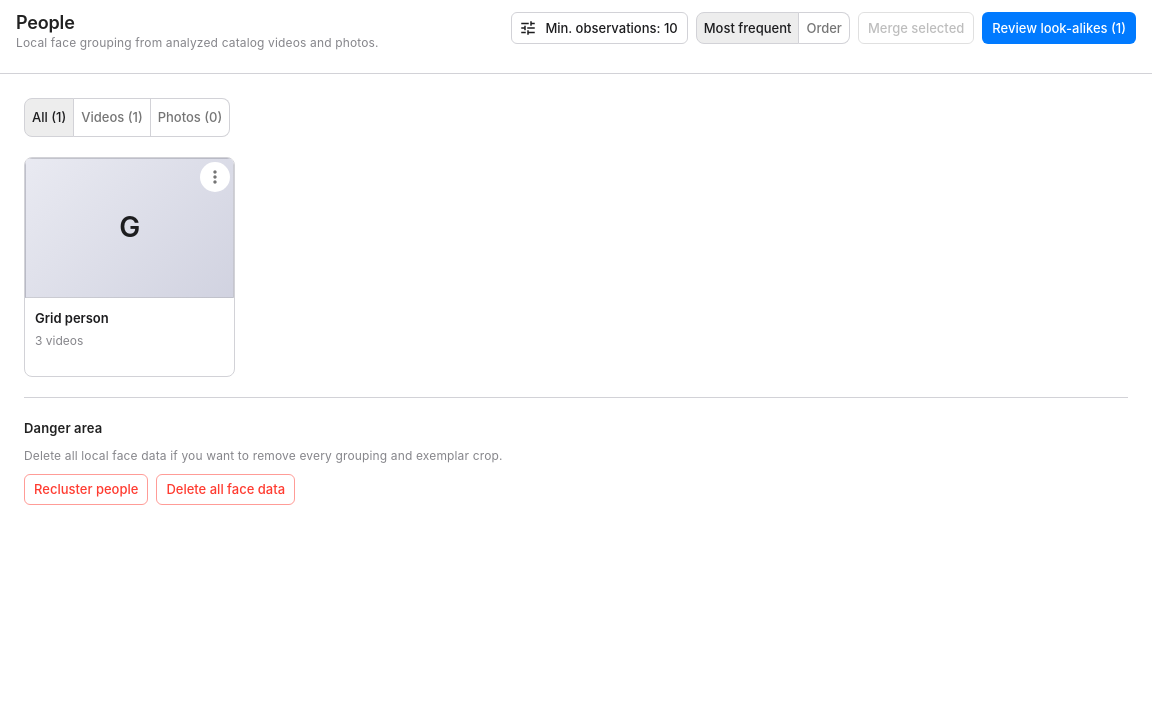
Test: Osoby pair review focus and hints › describes each answer by its key hint and announces the position
Click the button with test id "people-pair-review-open" at (1059, 28), box 982,12 -> 1136,44
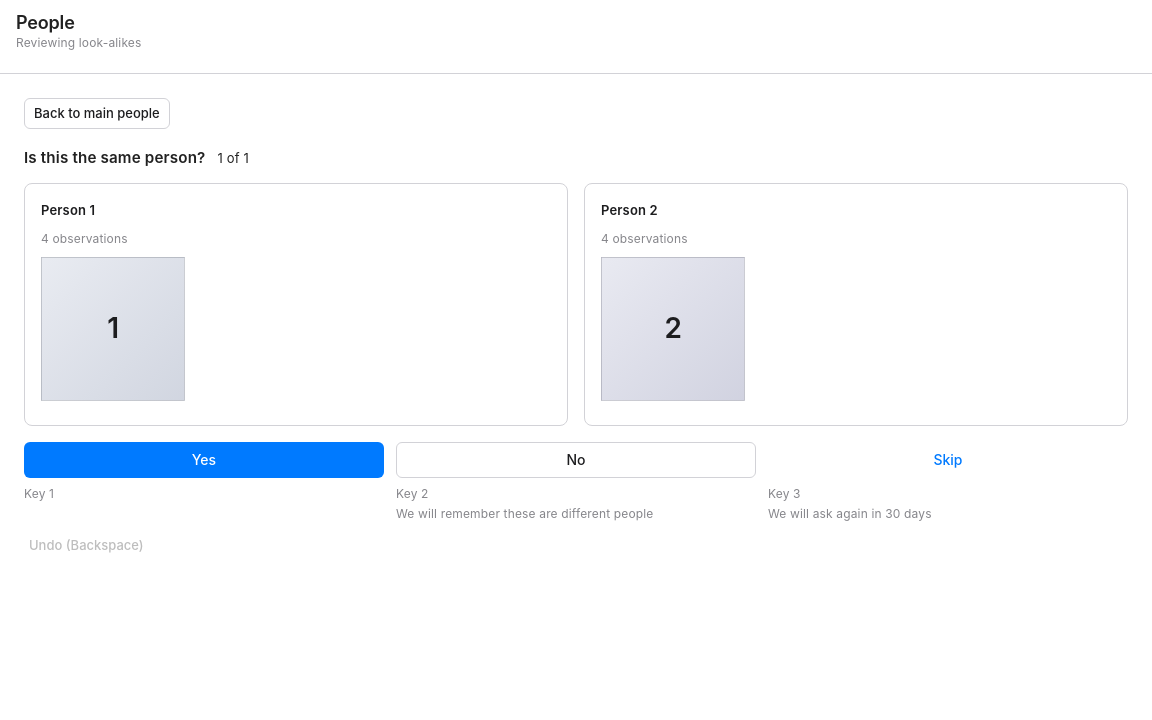
Result: the element with test id "people-pair-review" is shown at 24,149 -> 1128,561
Result: the text "We will ask again in 30 days" is shown at 768,506 -> 932,521
Result: the text "Key 1" is shown at 24,486 -> 54,501
